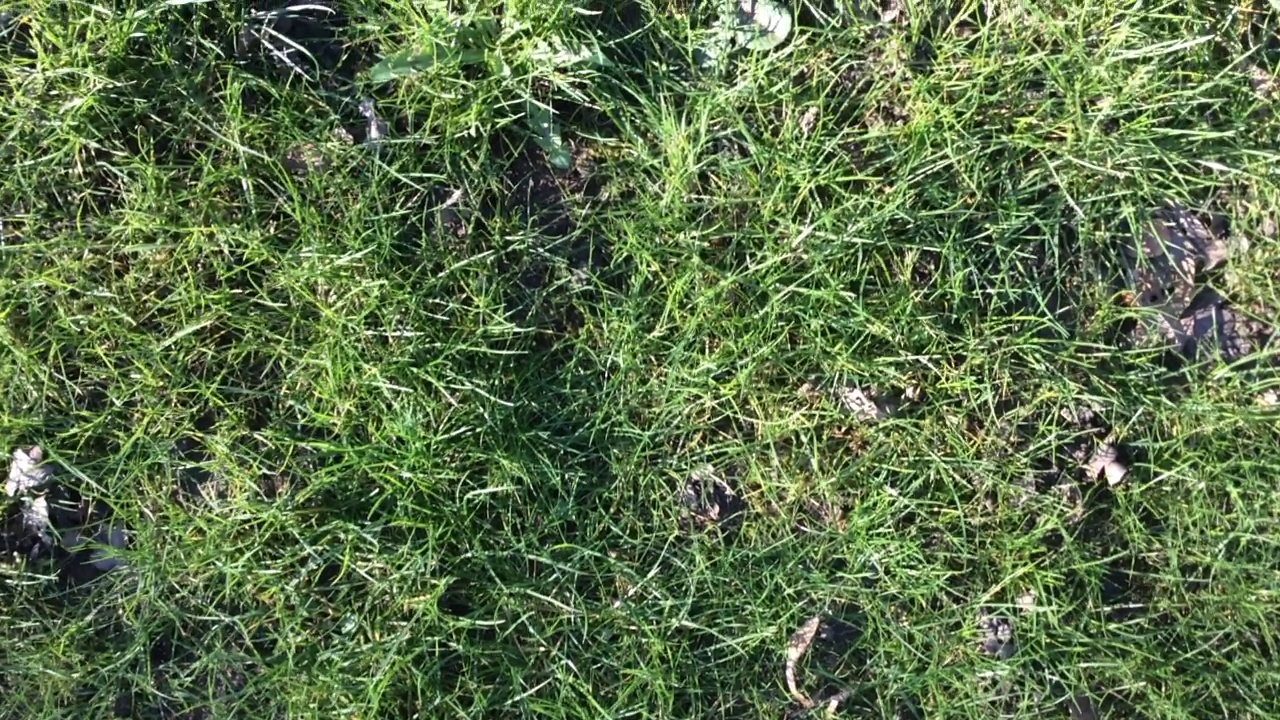rumex: (714, 1, 794, 52)
